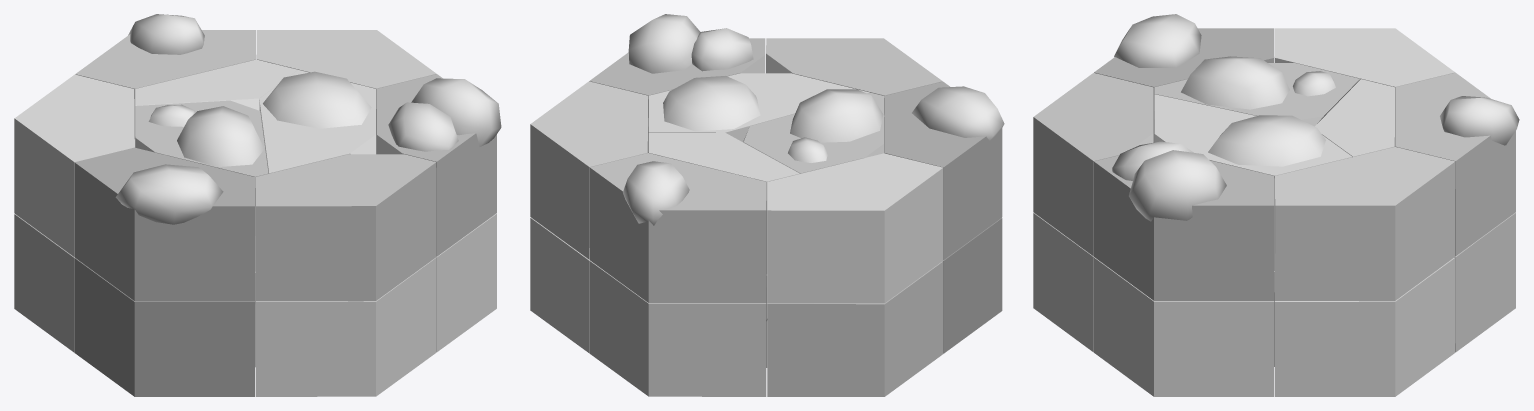
File: 3_Dest_Hex_20.fbx
3 renders of one model, left to right at view 1: azimuth 30°, elevation 25°; view 2: azimuth 150°, elevation 25°; view 3: azimuth 270°, elevation 25°, orthographic. The views are drawn at different scales.
Parts seen in each view (by area): view 1: Hex1.001_cell.029, Hex1.001_cell.027, Hex1.001_cell.026, Hex1.001_cell.028, Hex1.001_cell.037, Hex1.001_cell.031, Hex1.001_cell.012_cell.007, Hex1.001_cell.033, Hex1.001_cell.012_cell.008, Hex1.001_cell.035, Hex1.001_cell.036, Hex1.001_cell.030 (+1 smaller); view 2: Hex1.001_cell.033, Hex1.001_cell.031, Hex1.001_cell.032, Hex1.001_cell.030, Hex1.001_cell.029, Hex1.001_cell.035, Hex1.001_cell.037, Hex1.001_cell.012_cell.007, Hex1.001_cell.012_cell.008, Hex1.001_cell.027, Hex1.001_cell.034, Hex1.001_cell.028 (+1 smaller); view 3: Hex1.001_cell.037, Hex1.001_cell.035, Hex1.001_cell.034, Hex1.001_cell.036, Hex1.001_cell.033, Hex1.001_cell.027, Hex1.001_cell.012_cell.007, Hex1.001_cell.012_cell.008, Hex1.001_cell.029, Hex1.001_cell.031, Hex1.001_cell.032, Hex1.001_cell.026 (+1 smaller).
Part boxes in pixels (bbox=[...]): Hex1.001_cell.029: bbox=[74, 148, 254, 301]; Hex1.001_cell.027: bbox=[255, 154, 436, 301]; Hex1.001_cell.026: bbox=[255, 257, 436, 396]; Hex1.001_cell.028: bbox=[74, 258, 254, 396]; Hex1.001_cell.037: bbox=[376, 74, 501, 256]; Hex1.001_cell.031: bbox=[14, 74, 134, 256]; Hex1.001_cell.012_cell.007: bbox=[259, 70, 375, 173]; Hex1.001_cell.033: bbox=[75, 14, 255, 147]; Hex1.001_cell.012_cell.008: bbox=[135, 100, 268, 271]; Hex1.001_cell.035: bbox=[256, 30, 436, 154]; Hex1.001_cell.036: bbox=[436, 213, 496, 352]; Hex1.001_cell.030: bbox=[14, 214, 74, 352]; Hex1.001_cell.033: bbox=[589, 153, 766, 303]; Hex1.001_cell.031: bbox=[767, 153, 943, 303]; Hex1.001_cell.032: bbox=[589, 261, 766, 396]; Hex1.001_cell.030: bbox=[767, 261, 943, 396]; Hex1.001_cell.029: bbox=[884, 81, 1004, 259]; Hex1.001_cell.035: bbox=[530, 81, 648, 259]; Hex1.001_cell.037: bbox=[589, 14, 765, 152]; Hex1.001_cell.012_cell.007: bbox=[648, 73, 869, 141]; Hex1.001_cell.012_cell.008: bbox=[743, 89, 884, 173]; Hex1.001_cell.027: bbox=[766, 38, 942, 152]; Hex1.001_cell.034: bbox=[530, 217, 590, 353]; Hex1.001_cell.028: bbox=[943, 218, 1002, 353]; Hex1.001_cell.037: bbox=[1094, 141, 1274, 300]; Hex1.001_cell.035: bbox=[1275, 147, 1455, 300]; Hex1.001_cell.034: bbox=[1275, 257, 1455, 396]; Hex1.001_cell.036: bbox=[1094, 257, 1274, 396]; Hex1.001_cell.033: bbox=[1395, 72, 1519, 256]; Hex1.001_cell.027: bbox=[1033, 73, 1153, 256]; Hex1.001_cell.012_cell.007: bbox=[1154, 94, 1352, 270]; Hex1.001_cell.012_cell.008: bbox=[1154, 56, 1359, 142]; Hex1.001_cell.029: bbox=[1094, 14, 1274, 142]; Hex1.001_cell.031: bbox=[1275, 28, 1455, 146]; Hex1.001_cell.032: bbox=[1454, 212, 1515, 352]; Hex1.001_cell.026: bbox=[1033, 213, 1093, 352].
Size of the model in its own units: 1.03 by 0.5938 by 1.16.
